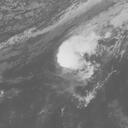cyclone: (57, 22, 102, 74)
